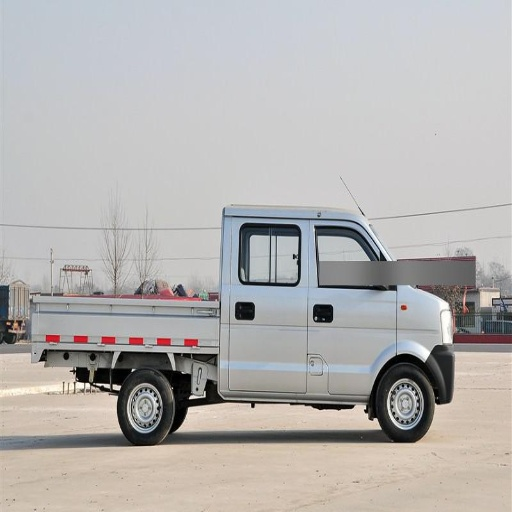trunk: (108, 306, 220, 395), (340, 292, 434, 393)
